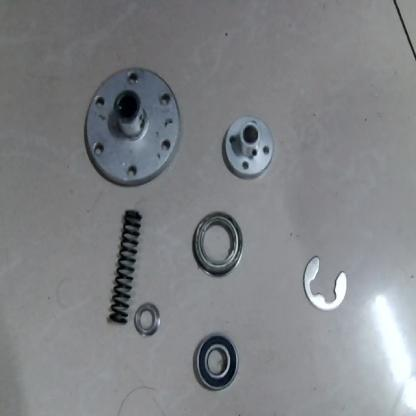FOD: (81, 61, 182, 189), (105, 203, 144, 328), (188, 211, 246, 279), (222, 112, 275, 184), (191, 333, 241, 395), (302, 254, 348, 315), (133, 302, 161, 340)
